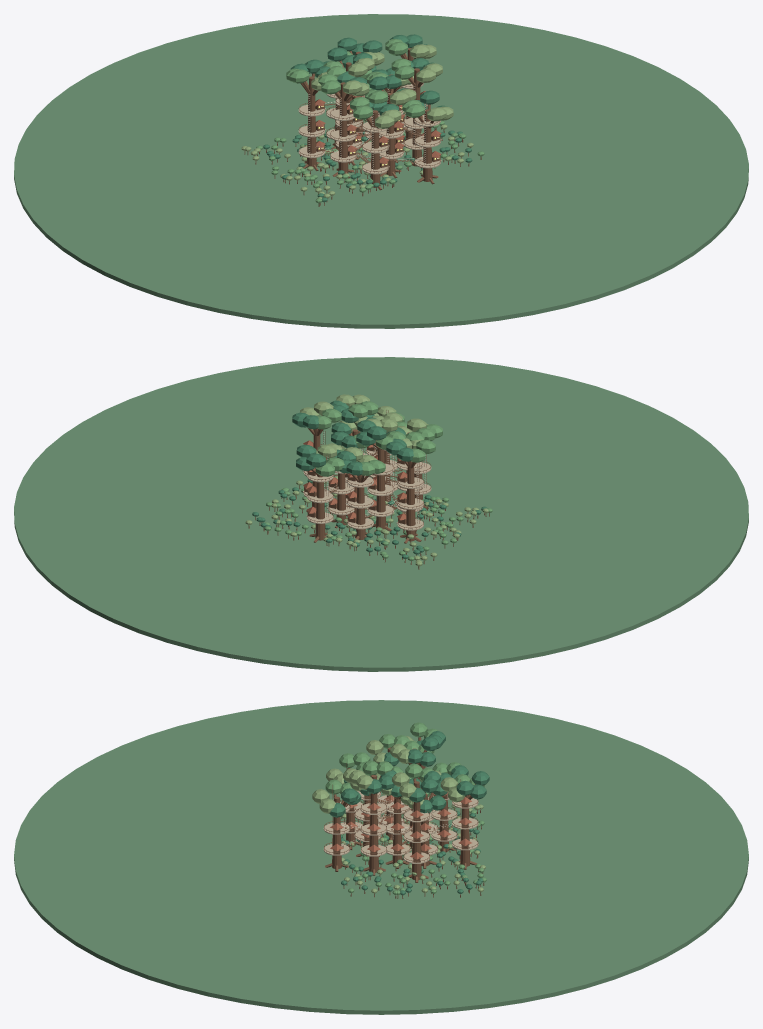
Rendered from treehouse.glb.
3 views of the same model, one above another, from view 1: azimuth 30°, elevation 25°; view 2: azimuth 150°, elevation 25°; view 3: azimuth 270°, elevation 25° (orthographic).
Parts seen in each view (by area): view 1: world detail batch; view 2: world detail batch; view 3: world detail batch.
Part boxes in pixels (x1,y1,x2,y2): world detail batch: [14, 14, 748, 328]; world detail batch: [14, 357, 748, 671]; world detail batch: [14, 700, 748, 1014].
Size of the model in its own units: 320 by 53.7 by 320.
